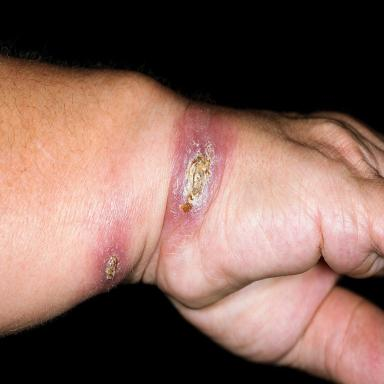Leishmanios: (162, 106, 233, 241), (98, 241, 128, 291)
